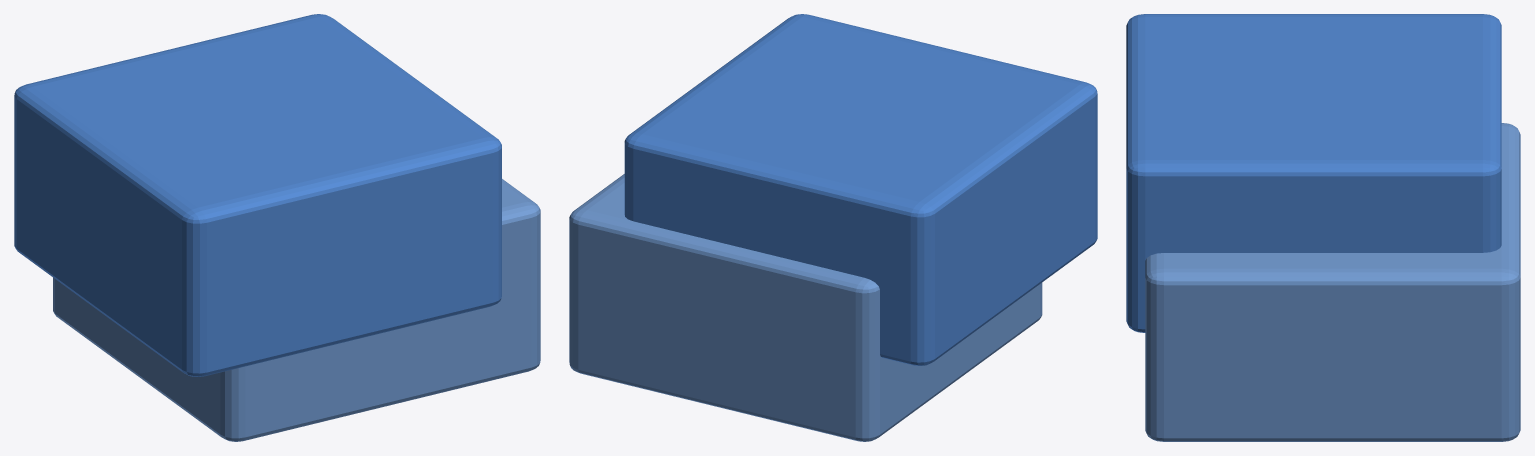
The picture shows the model from 3 angles, left to right: view 1: azimuth 30°, elevation 25°; view 2: azimuth 150°, elevation 25°; view 3: azimuth 270°, elevation 25°; orthographic projection. The views are drawn at different scales.
Parts seen in each view (by area): view 1: Cube; view 2: Cube; view 3: Cube.
Boxes of the visible parts, left/top/right/bottom form: Cube: left=14, top=14, right=540, bottom=441; Cube: left=569, top=14, right=1097, bottom=441; Cube: left=1126, top=14, right=1520, bottom=441.
Bounding box in the file's own units: 2.3 × 2.1 × 1.5.
